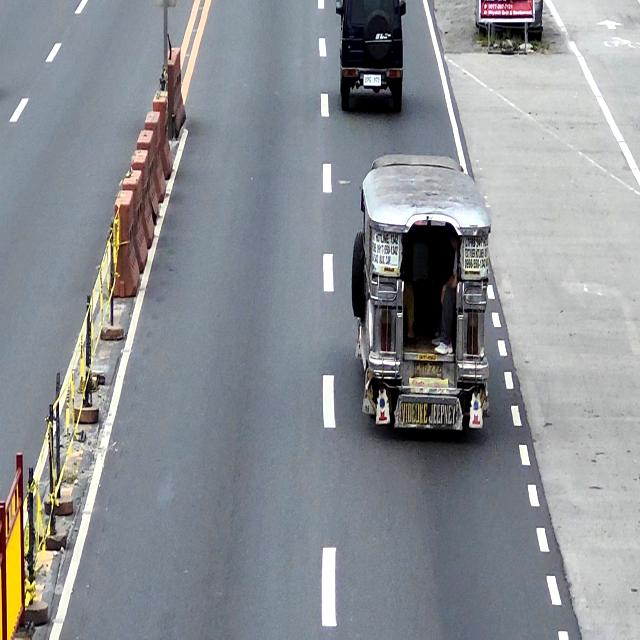Car: (336, 0, 407, 115)
Jeep: (351, 154, 492, 436)
License-Plate: (414, 361, 443, 378), (362, 74, 382, 86)
